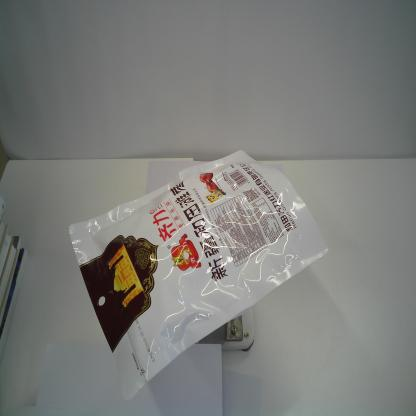Dried Food: (68, 148, 329, 402)
